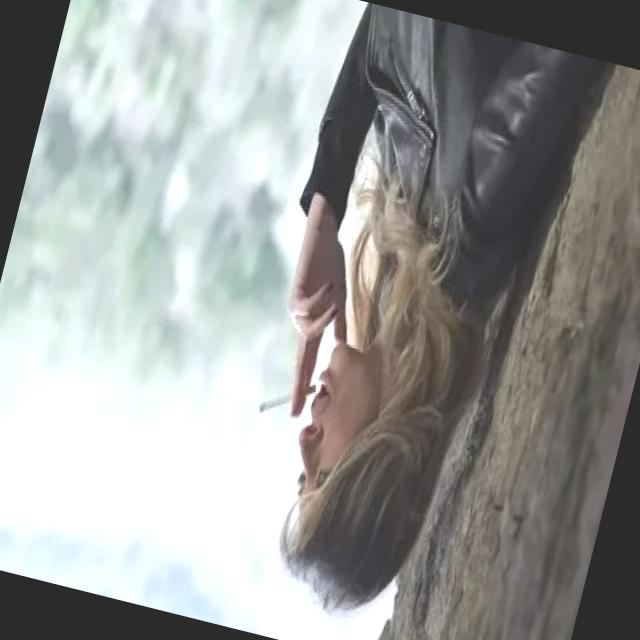smoke: (258, 366, 320, 424)
